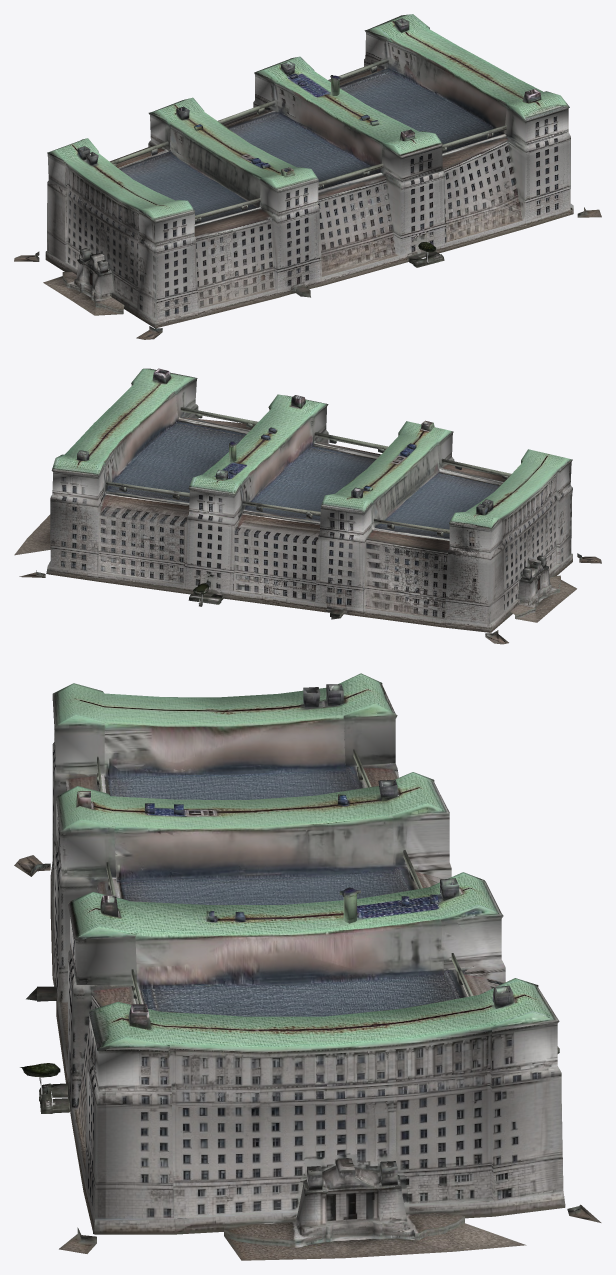
Rendered from industrial+building+3d+model.glb.
The picture shows the model from 3 angles, top to bottom: view 1: azimuth 30°, elevation 25°; view 2: azimuth 150°, elevation 25°; view 3: azimuth 270°, elevation 25°; orthographic projection. The views are drawn at different scales.
Parts seen in each view (by area): view 1: tripo_node_994ea8ec-3332-43ba-a948-fb3916ec4c6f; view 2: tripo_node_994ea8ec-3332-43ba-a948-fb3916ec4c6f; view 3: tripo_node_994ea8ec-3332-43ba-a948-fb3916ec4c6f.
Boxes of the visible parts, <box> form: tripo_node_994ea8ec-3332-43ba-a948-fb3916ec4c6f: <box>14,14,601,339</box>; tripo_node_994ea8ec-3332-43ba-a948-fb3916ec4c6f: <box>14,368,601,644</box>; tripo_node_994ea8ec-3332-43ba-a948-fb3916ec4c6f: <box>14,673,601,1260</box>.
Bounding box in the file's own units: 0.998 × 0.2324 × 0.5957.
1 material, 1 textured.
